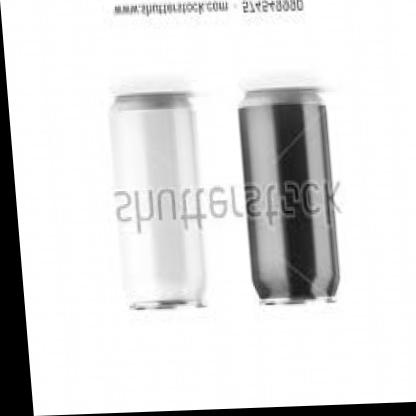trash: (239, 88, 338, 299), (110, 93, 204, 308)
